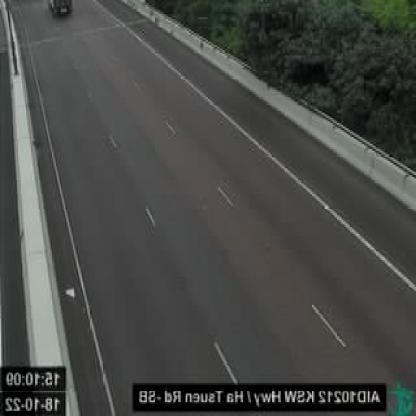Car: (45, 0, 74, 21)
